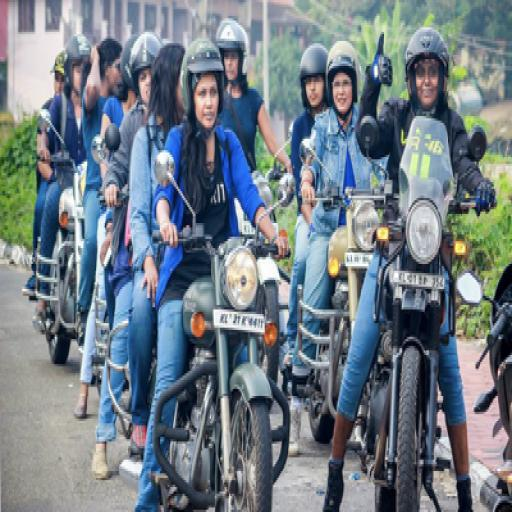With Helmet: (179, 34, 225, 130), (402, 25, 449, 114), (326, 38, 358, 114)
